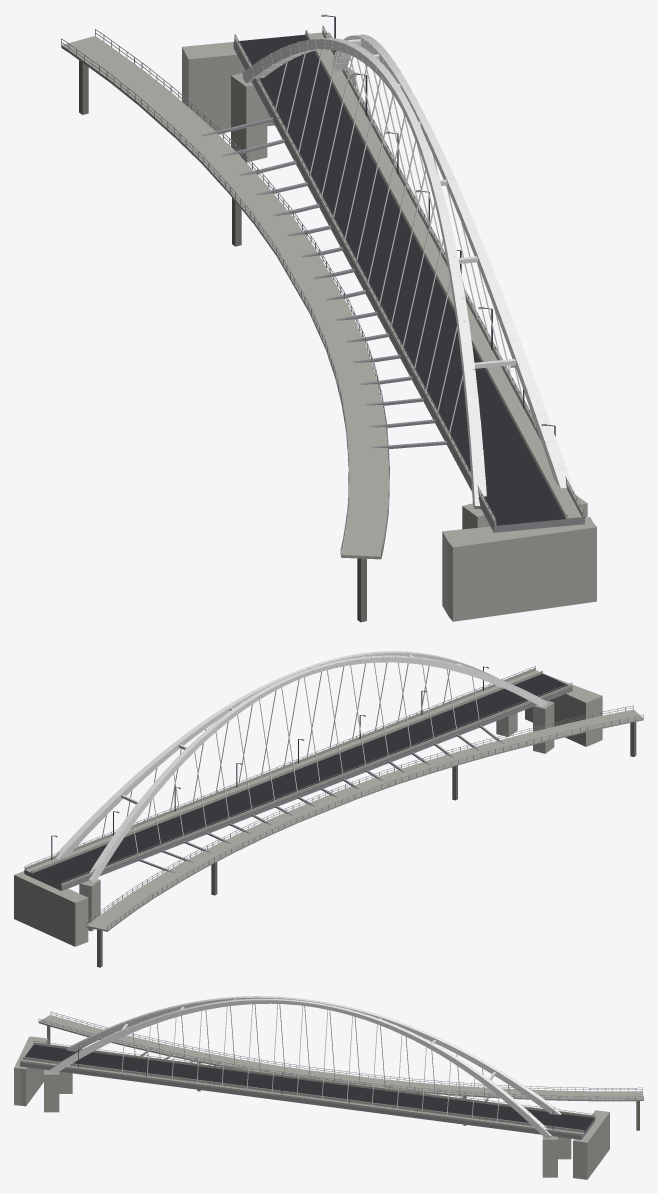
File: br_r11_walterdale.gltf
The picture shows the model from 3 angles, top to bottom: view 1: azimuth 30°, elevation 25°; view 2: azimuth 150°, elevation 25°; view 3: azimuth 270°, elevation 25°; orthographic projection. The views are drawn at different scales.
Visible parts, largest first — view 1: br_r11_walterdale; view 2: br_r11_walterdale; view 3: br_r11_walterdale.
Boxes of the visible parts, <box> form: br_r11_walterdale: <box>61,14,596,622</box>; br_r11_walterdale: <box>14,651,643,967</box>; br_r11_walterdale: <box>14,996,643,1179</box>.
Size of the model in its own units: 120 by 57.51 by 249.
